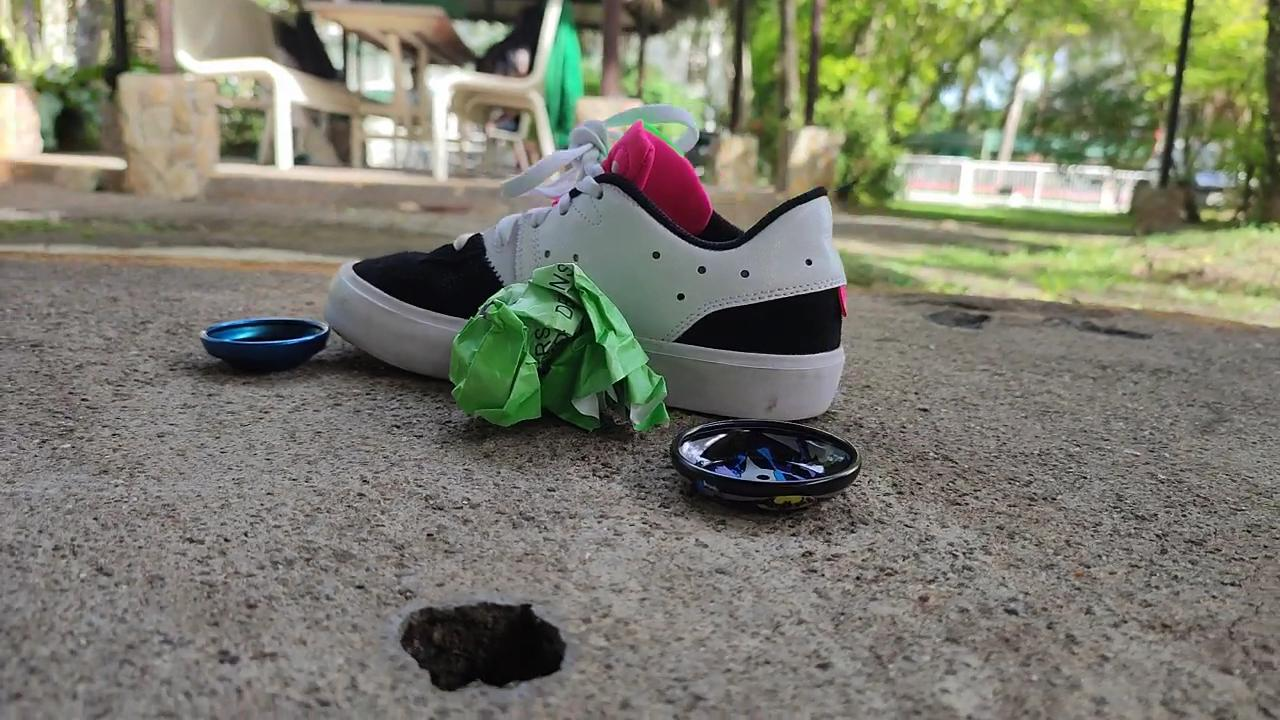Paper: (429, 245, 677, 462)
